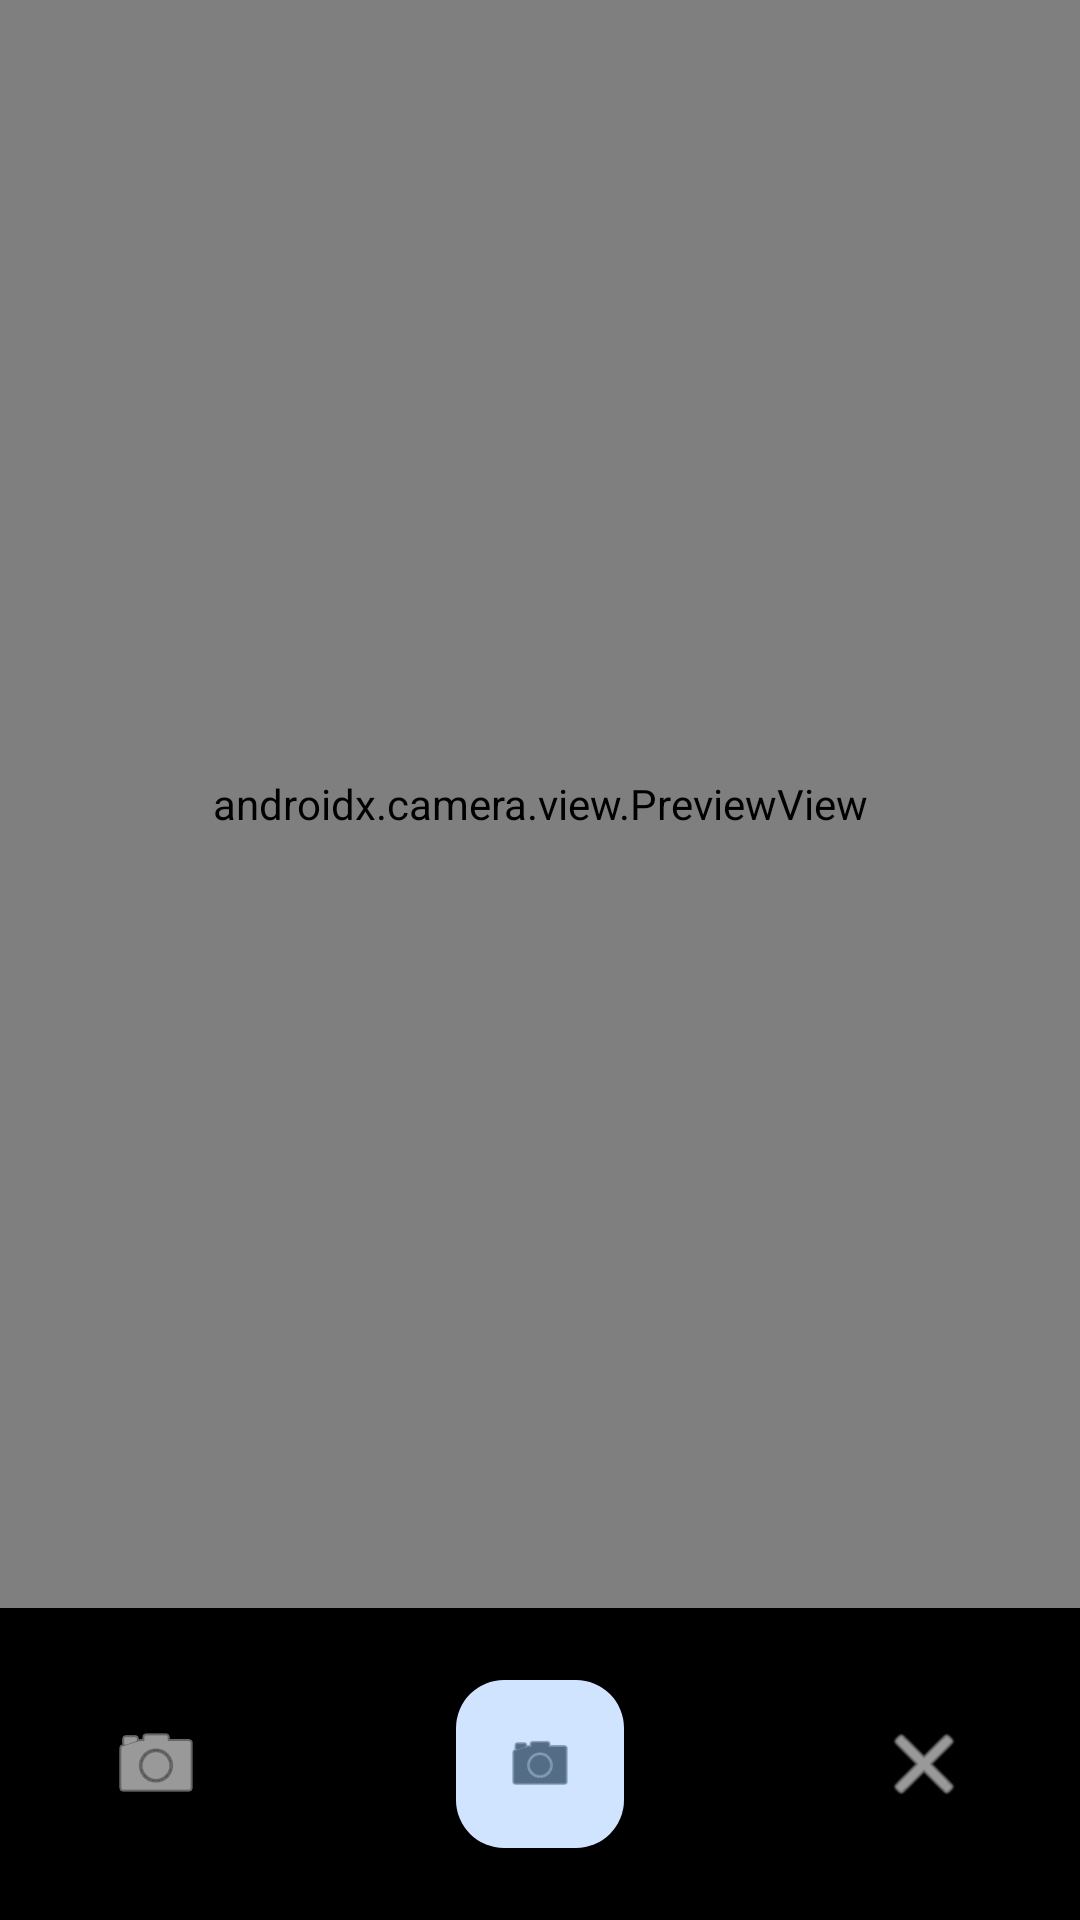

Locate icon controls on the screen. Image size 1080w x 1920h, boxes as (x1, y1, x2, y2).
Cancel: (894, 1734, 954, 1794)
Capture: (456, 1680, 624, 1848)
